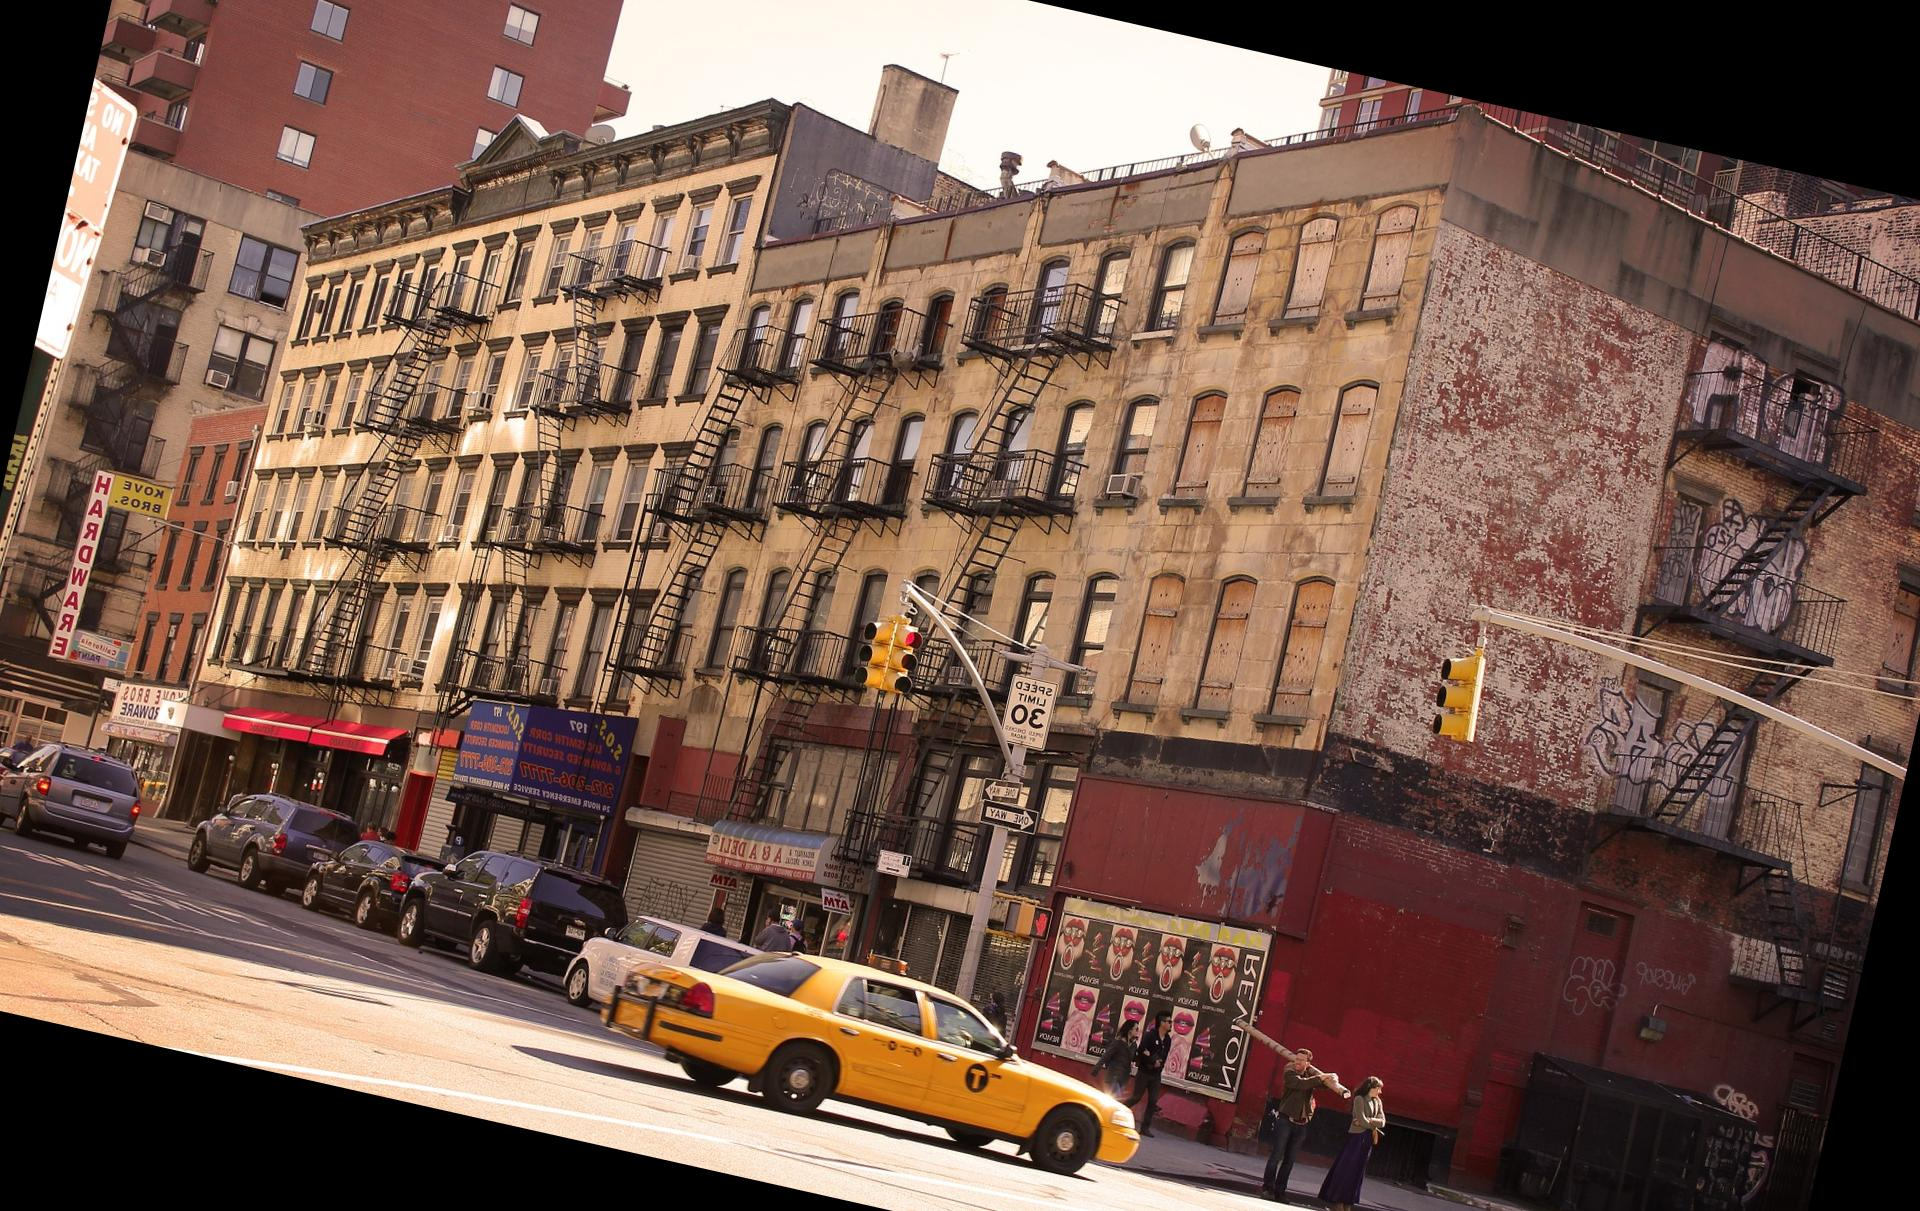taxi: (579, 910, 1141, 1178)
